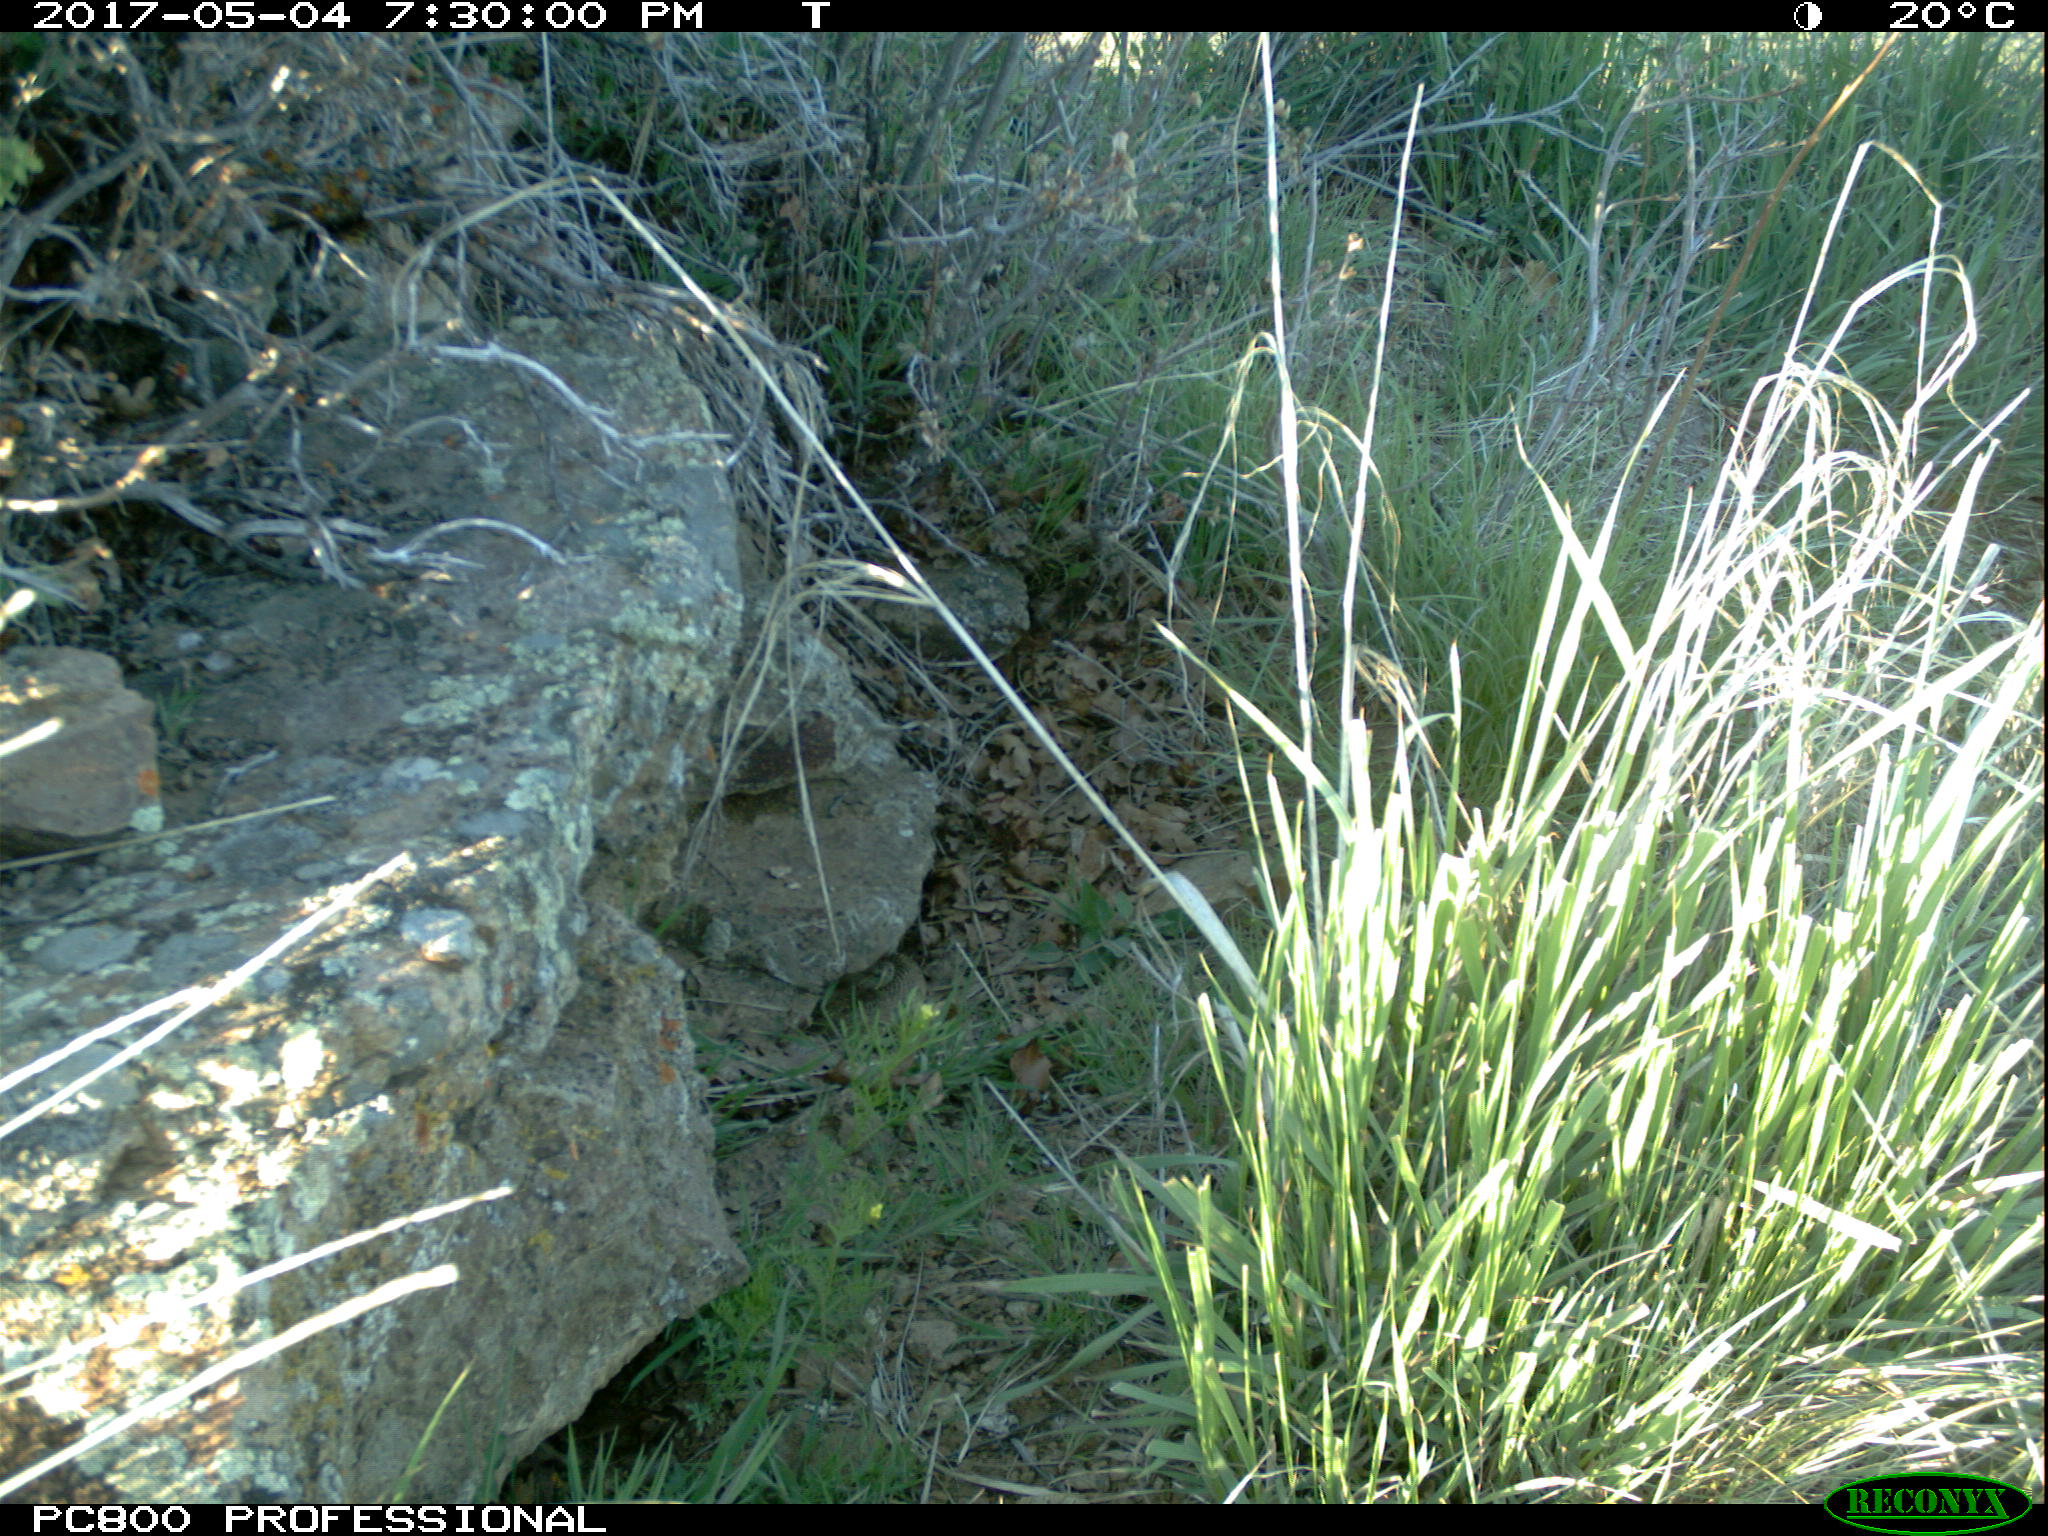snake: (813, 942, 942, 1042)
